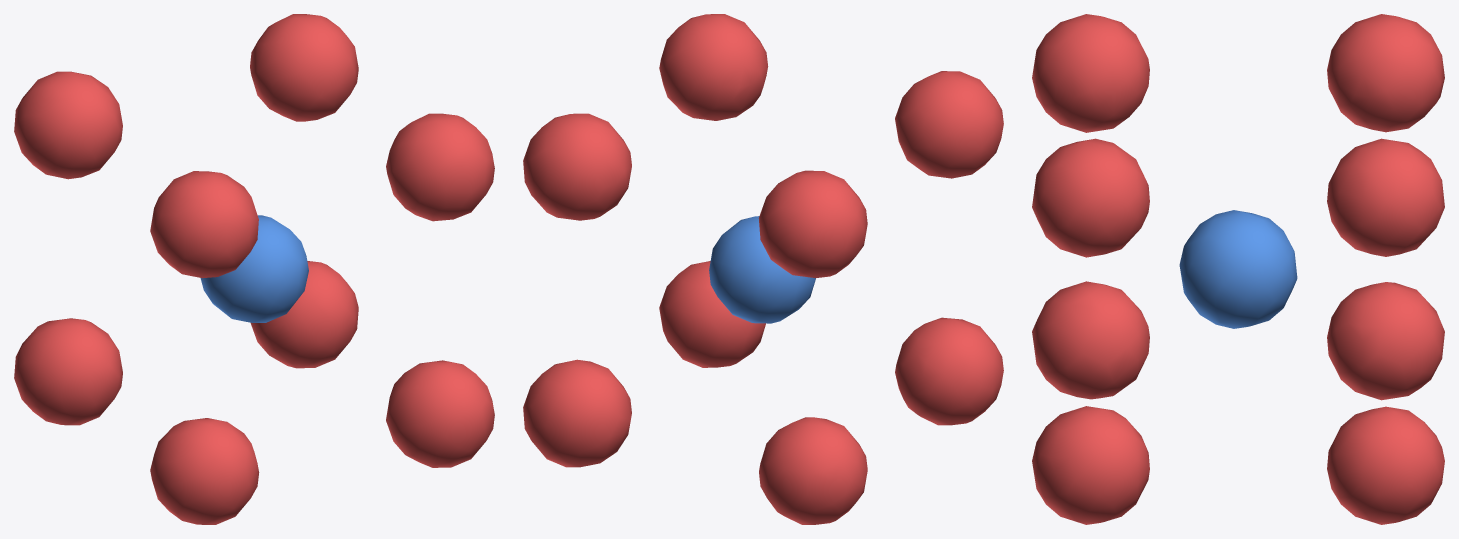
The model's file is bcc_atom.glb.
3 views of the same model, side by side, from view 1: azimuth 30°, elevation 25°; view 2: azimuth 150°, elevation 25°; view 3: azimuth 270°, elevation 25° (orthographic). The views are drawn at different scales.
Visible parts, largest first — view 1: atom_2, atom_6, atom_0, atom_7, atom_5, atom_1, atom_4, atom_3, atom_8; view 2: atom_7, atom_6, atom_3, atom_5, atom_2, atom_0, atom_4, atom_8, atom_1; view 3: atom_8, atom_1, atom_4, atom_2, atom_6, atom_3, atom_7, atom_5, atom_0.
Part boxes in pixels (left/top/right/bottom): atom_2: left=14, top=318, right=122, bottom=425; atom_6: left=14, top=71, right=122, bottom=179; atom_0: left=150, top=418, right=259, bottom=524; atom_7: left=250, top=14, right=358, bottom=121; atom_5: left=386, top=113, right=494, bottom=221; atom_1: left=386, top=360, right=494, bottom=467; atom_4: left=150, top=171, right=258, bottom=278; atom_3: left=250, top=261, right=358, bottom=368; atom_8: left=200, top=215, right=308, bottom=322; atom_7: left=523, top=113, right=631, bottom=220; atom_6: left=758, top=170, right=867, bottom=278; atom_3: left=523, top=359, right=631, bottom=467; atom_5: left=659, top=14, right=768, bottom=120; atom_2: left=759, top=417, right=867, bottom=524; atom_0: left=895, top=317, right=1003, bottom=425; atom_4: left=895, top=71, right=1003, bottom=178; atom_8: left=709, top=216, right=815, bottom=323; atom_1: left=659, top=261, right=765, bottom=367; atom_8: left=1179, top=210, right=1297, bottom=328; atom_1: left=1032, top=406, right=1149, bottom=524; atom_4: left=1032, top=14, right=1149, bottom=132; atom_2: left=1327, top=282, right=1444, bottom=400; atom_6: left=1327, top=14, right=1444, bottom=132; atom_3: left=1327, top=406, right=1444, bottom=524; atom_7: left=1327, top=138, right=1444, bottom=256; atom_5: left=1032, top=138, right=1149, bottom=257; atom_0: left=1032, top=281, right=1149, bottom=399.
Size of the model in its own units: 14 by 14 by 14.
